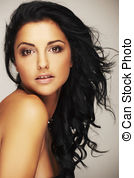face: (4, 4, 82, 103)
